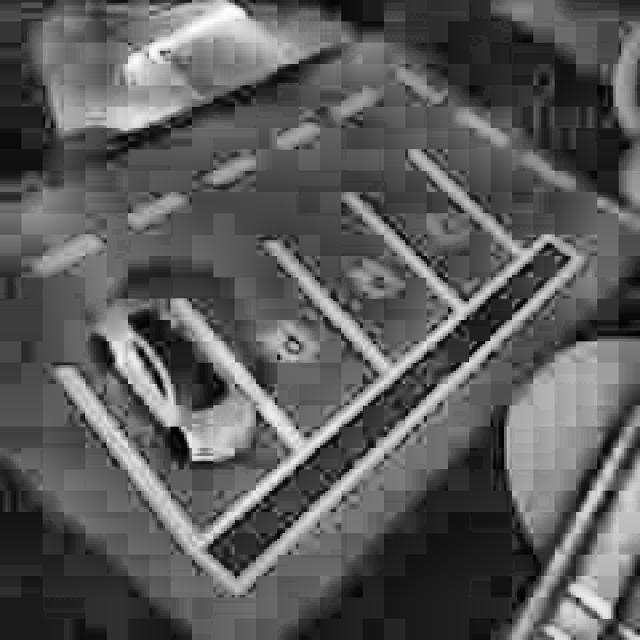car: (82, 283, 265, 480)
